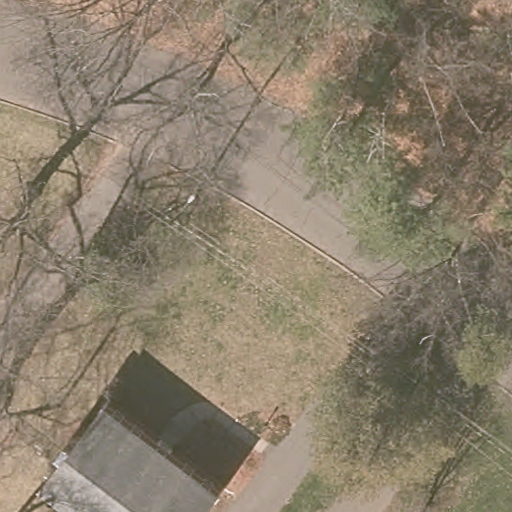DT: (164, 178, 211, 230)
